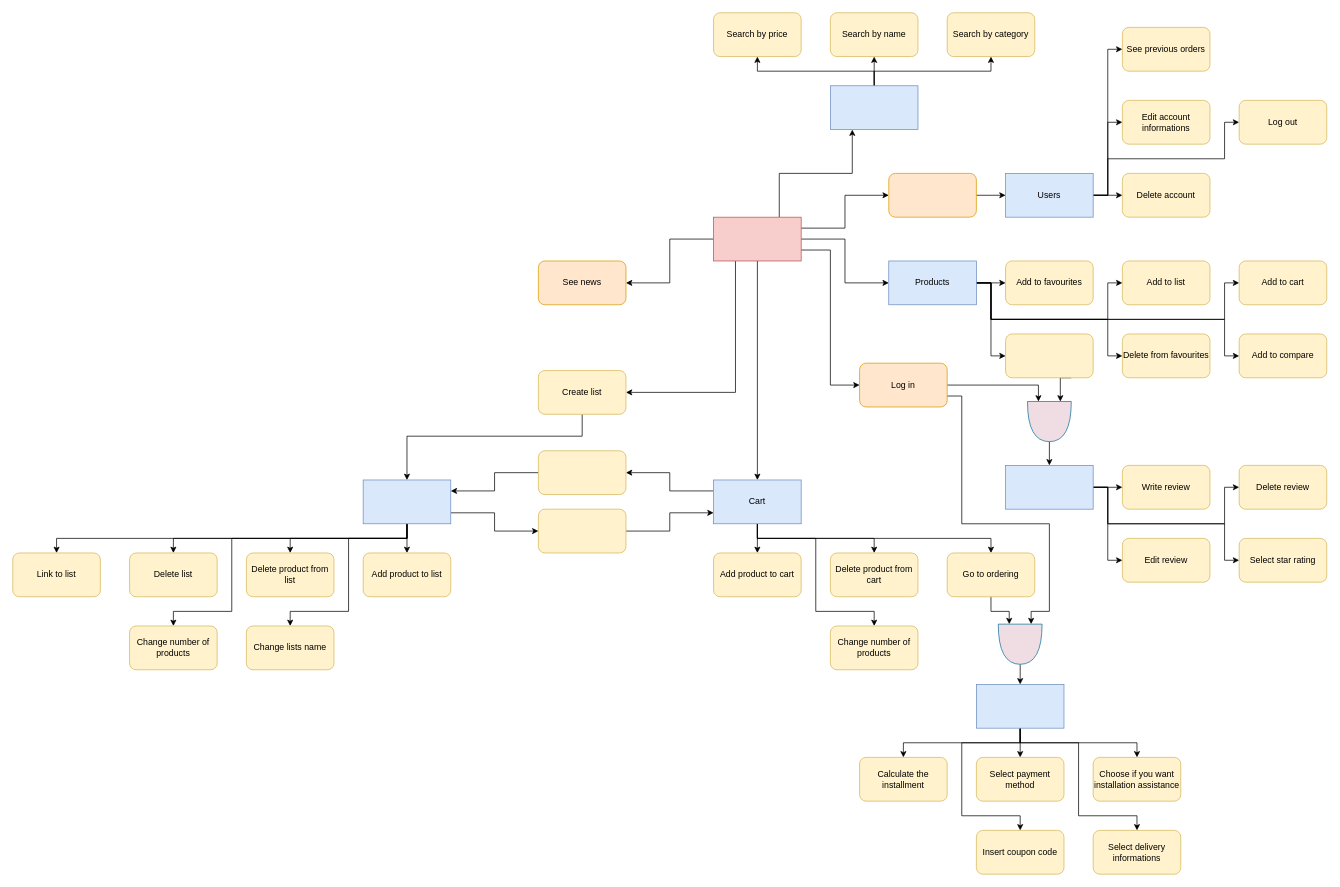
Some shapes in this 1340 by 887 pixel diagram are drawn without their labels. The shapes that lost their labels are listed below. From the top down, each one's centre as x and y in pixels, then its label:
At pixel 874 107: "Search".
At pixel 932 195: "Sign up".
At pixel 757 238: "START".
At pixel 1049 355: "Give feedback about product".
At pixel 582 472: "Convert cart to list".
At pixel 1049 487: "Reviews".
At pixel 406 501: "Lists".
At pixel 582 530: "Add available content to cart".
At pixel 1020 706: "Order".
